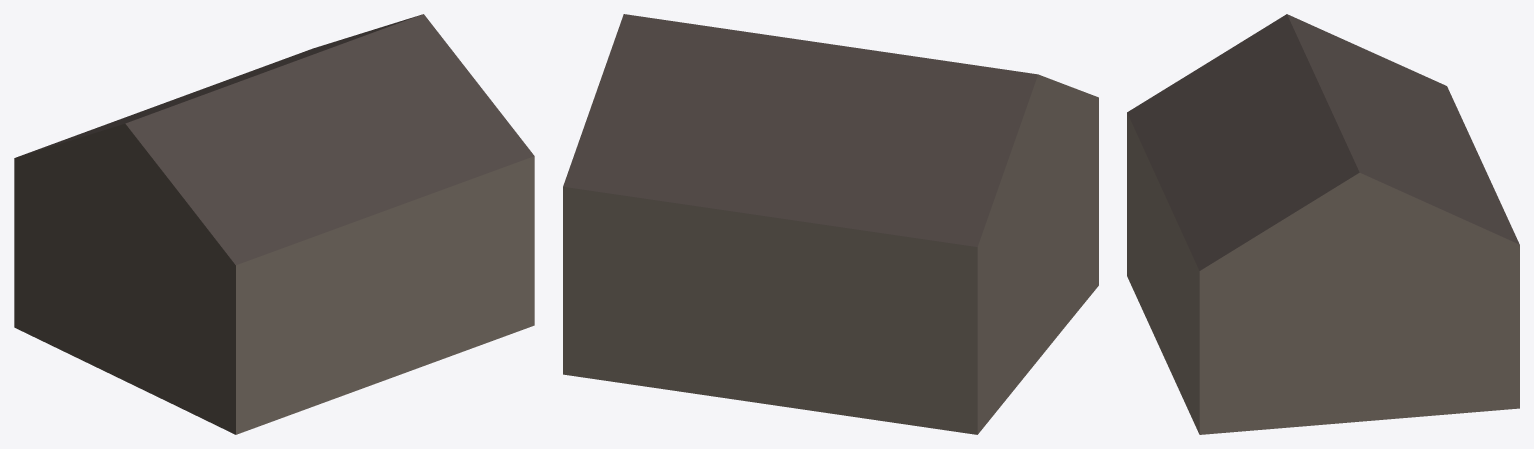
3 views of the same model, side by side, from view 1: azimuth 30°, elevation 25°; view 2: azimuth 150°, elevation 25°; view 3: azimuth 270°, elevation 25° (orthographic). The views are drawn at different scales.
Parts seen in each view (by area): view 1: HP-w859078985; view 2: HP-w859078985; view 3: HP-w859078985.
Boxes of the visible parts, x1,y1,x2,y2 form: HP-w859078985: (14, 14, 534, 434); HP-w859078985: (563, 14, 1098, 434); HP-w859078985: (1127, 14, 1519, 434).
Size of the model in its own units: 14.54 by 9.13 by 13.04.
